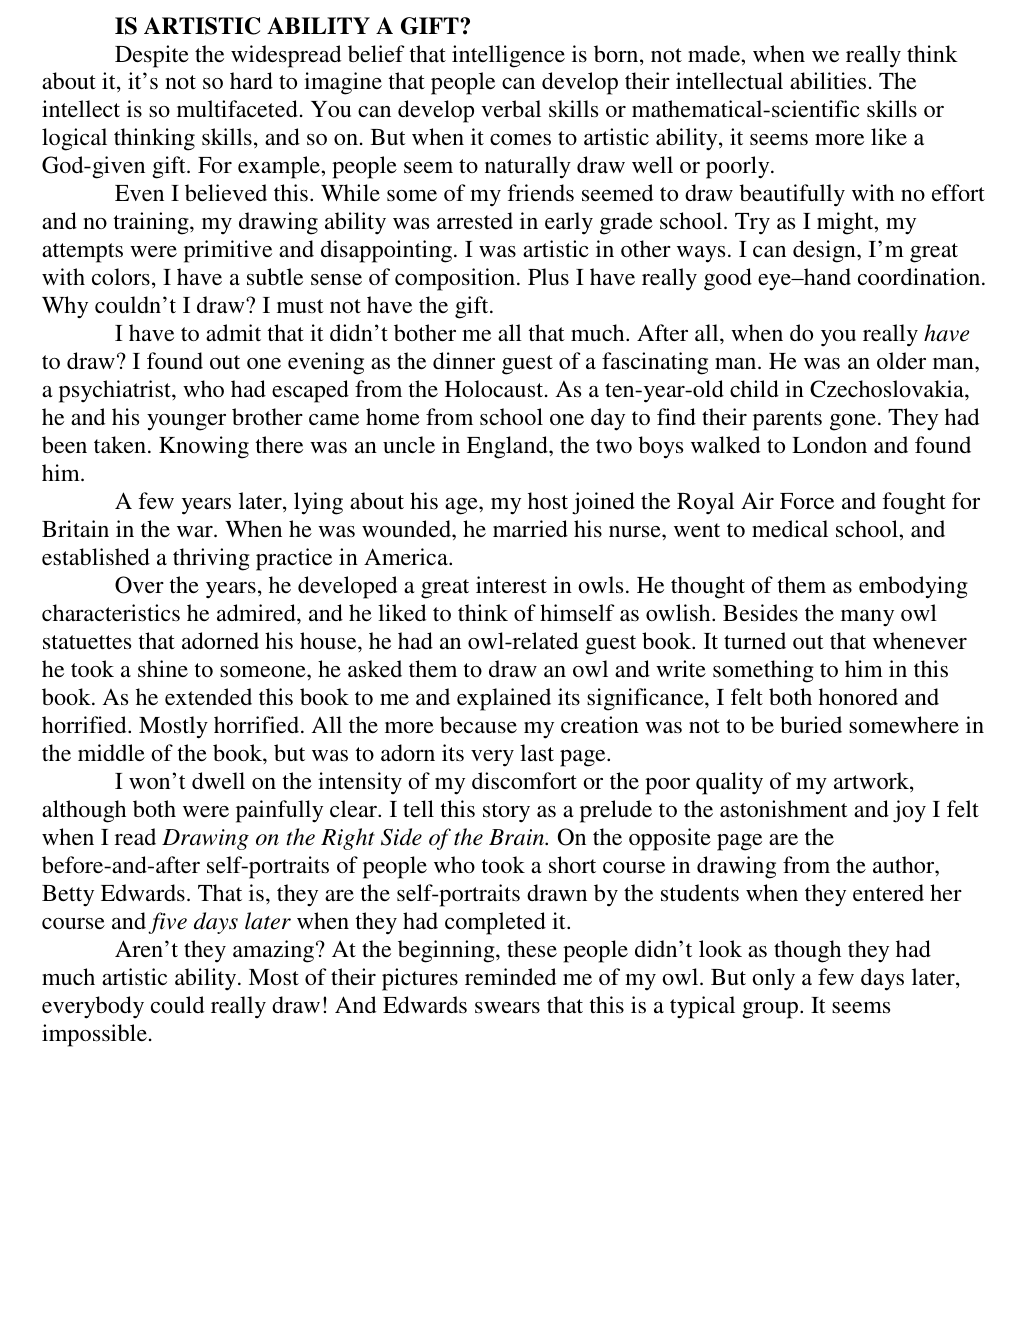latin: (30, 571, 986, 766), (39, 766, 993, 939), (35, 323, 983, 481), (38, 180, 990, 323), (39, 46, 958, 180), (34, 939, 964, 1052), (36, 481, 986, 571), (113, 10, 470, 37)
